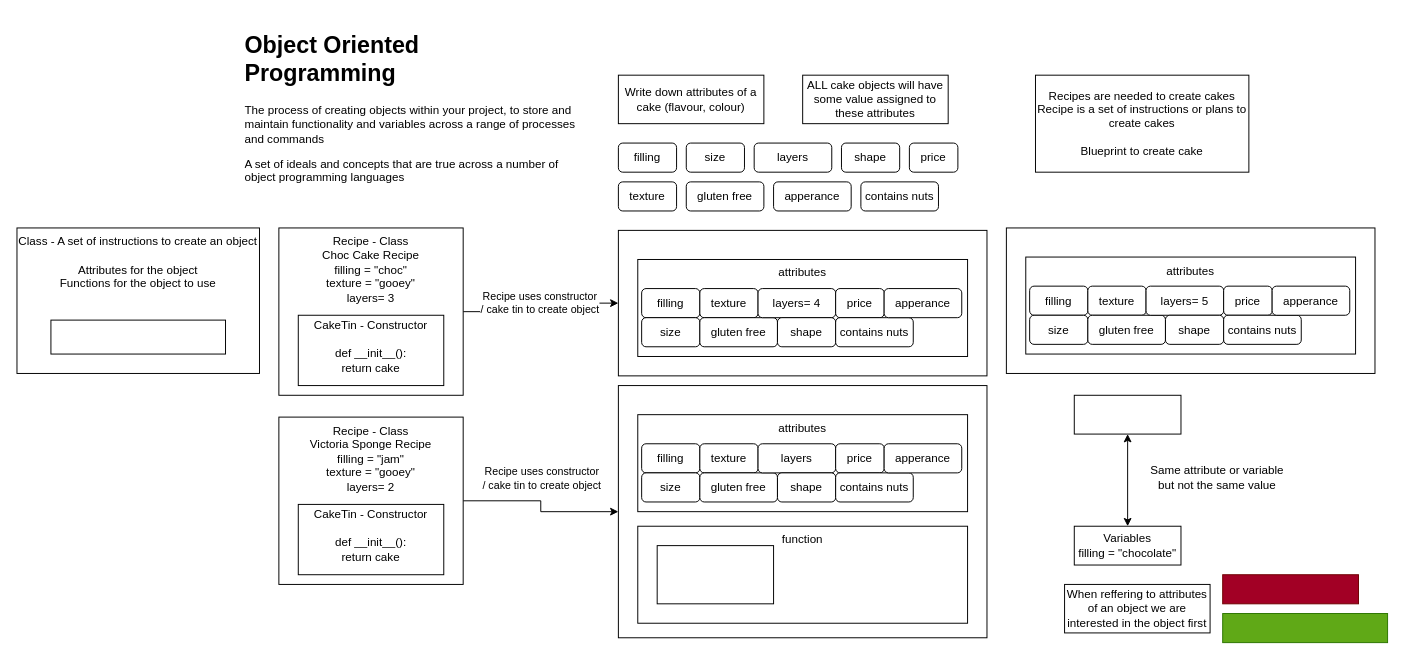
Some shapes in this 1405 by 660 pixel diagram are drawn without their labels. The shapes that lost their labels are listed below. From the top down, each one's box as (x1, y1, x2, y2) in pixels, then its label:
(617, 229, 987, 376): choc cake - object
(1005, 227, 1375, 373): choc cake2 - object
(50, 319, 226, 354): Constructor is a function/ method that creates the object
(1073, 394, 1181, 434): Variables filling = "jam"
(617, 385, 987, 638): victoria cake - object
(656, 545, 774, 604): def beDelicious() print("Yummy!")
(1222, 574, 1358, 604): print(filling) - WRONG
(1222, 613, 1388, 643): print(vicSpong.filling) - RIGHT
